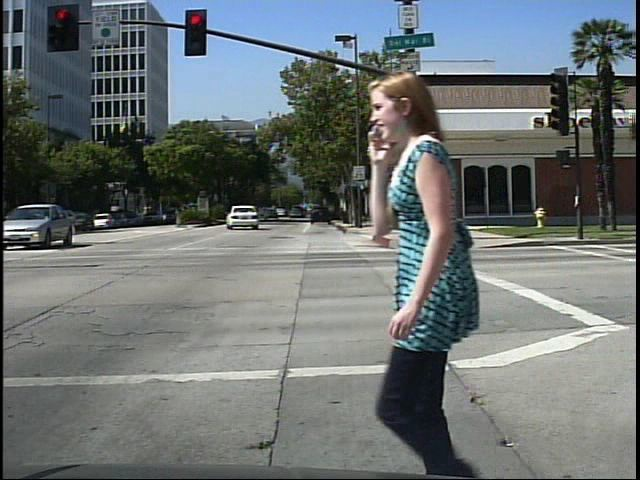person: (341, 63, 538, 479)
